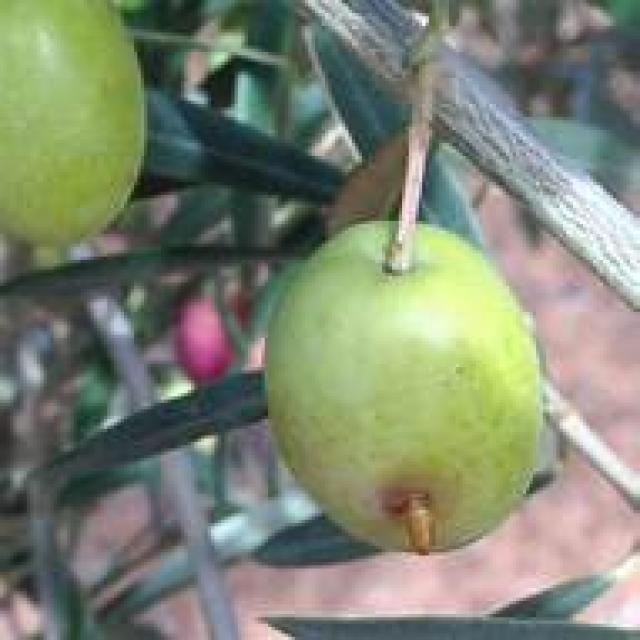Olive Fruit Fly: (268, 224, 539, 549)
